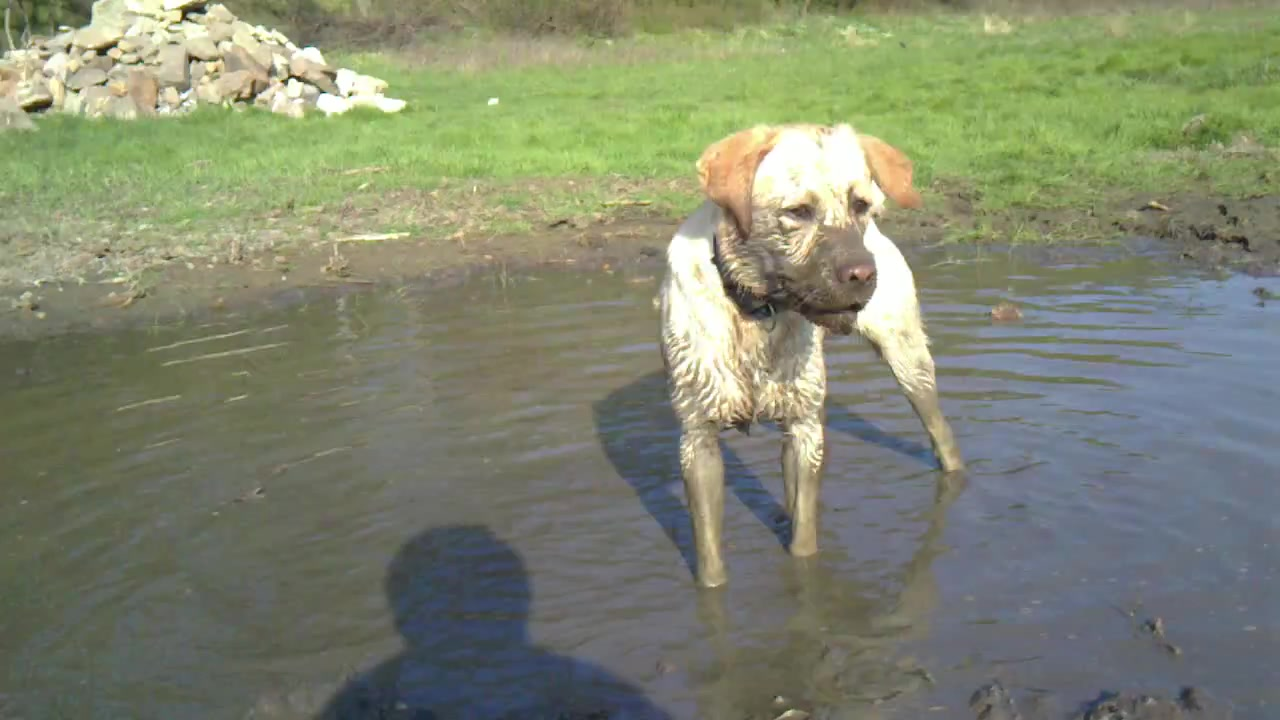dog: (655, 123, 969, 593)
